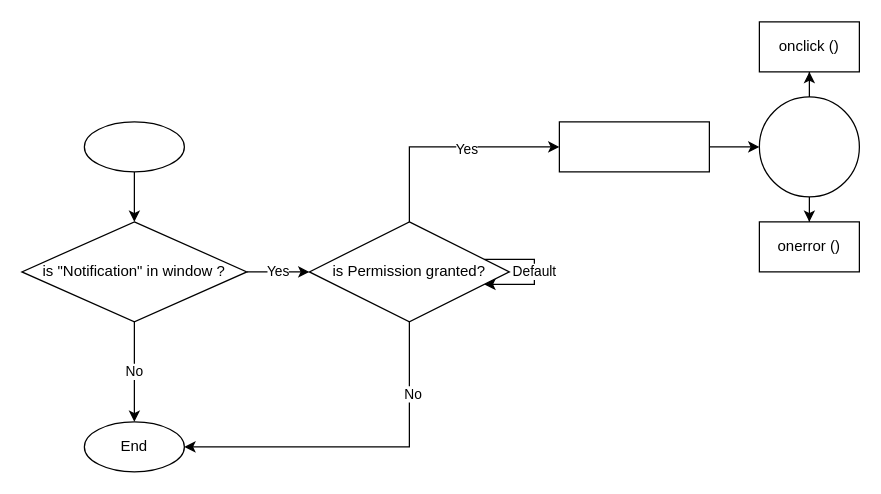
Some shapes in this 881 by 494 pixel diagram are drawn without their labels. Each missing label, with the centre of its shape:
"new Notification" belongs at [633,146].
"Notification Object" belongs at [808,146].
"Start" belongs at [133,146].
